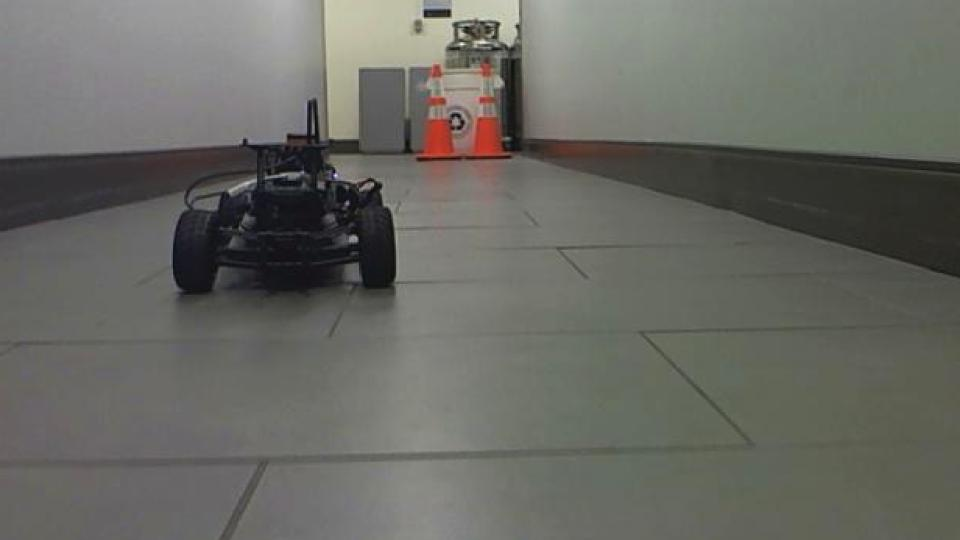car: (170, 96, 402, 296)
